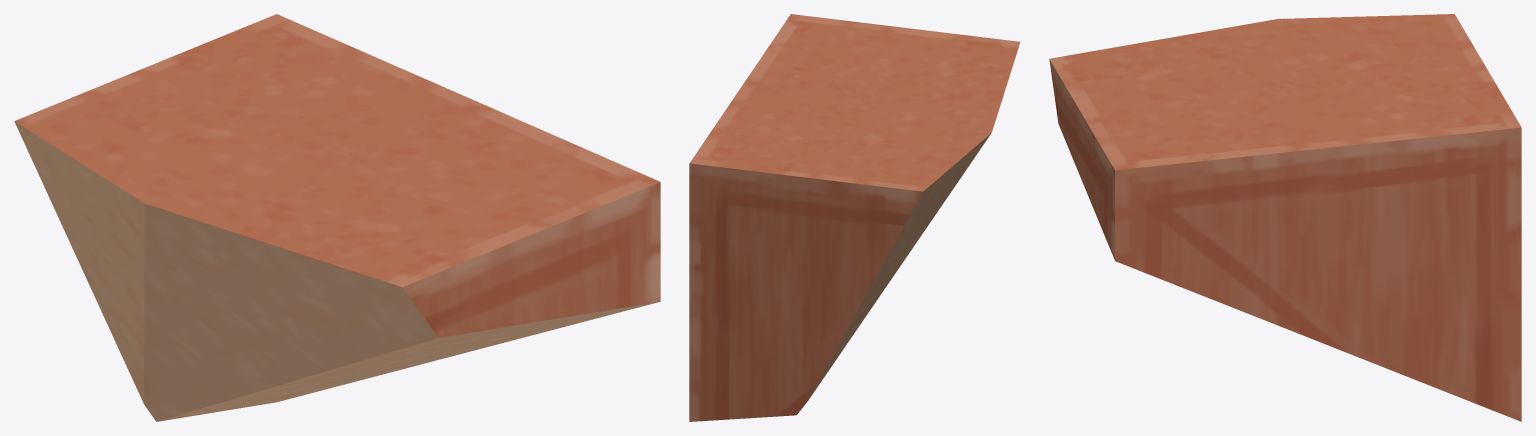
File: stack_crates_s06.fbx
3 views of the same model, side by side, from view 1: azimuth 30°, elevation 25°; view 2: azimuth 150°, elevation 25°; view 3: azimuth 270°, elevation 25° (orthographic). The views are drawn at different scales.
Visible parts, largest first — view 1: stack_crates_s06; view 2: stack_crates_s06; view 3: stack_crates_s06.
Boxes of the visible parts, x1=… form: stack_crates_s06: x1=14, y1=14, x2=660, y2=421; stack_crates_s06: x1=689, y1=14, x2=1020, y2=421; stack_crates_s06: x1=1049, y1=14, x2=1521, y2=421.
Size of the model in its own units: 2.65 by 2.33 by 3.38.
